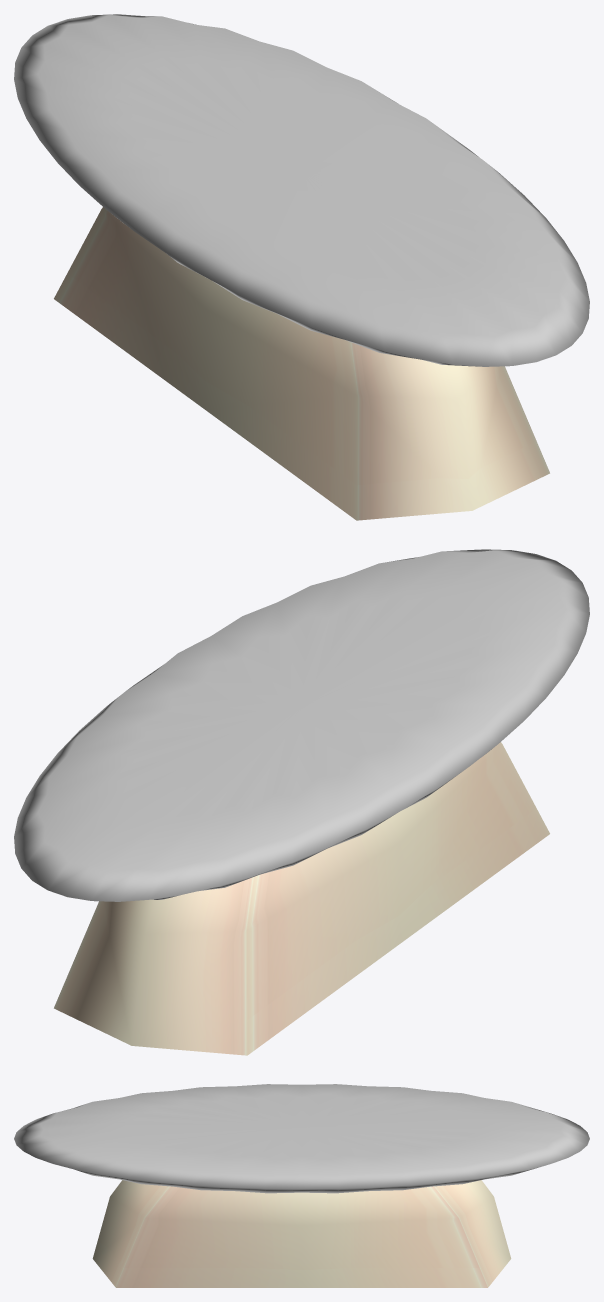
The model's file is HUBTable.fbx.
The picture shows the model from 3 angles, top to bottom: view 1: azimuth 30°, elevation 25°; view 2: azimuth 150°, elevation 25°; view 3: azimuth 270°, elevation 25°; orthographic projection. The views are drawn at different scales.
Visible parts, largest first — view 1: pCylinder1, pCube1; view 2: pCylinder1, pCube1; view 3: pCylinder1, pCube1.
Boxes of the visible parts, x1=… form: pCylinder1: x1=14, y1=14, x2=589, y2=366; pCube1: x1=54, y1=207, x2=549, y2=520; pCylinder1: x1=14, y1=549, x2=589, y2=901; pCube1: x1=54, y1=742, x2=549, y2=1055; pCylinder1: x1=14, y1=1084, x2=589, y2=1193; pCube1: x1=92, y1=1180, x2=511, y2=1287.
Bounding box in the file's own units: 147 × 89.8 × 355.
